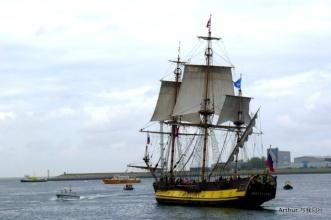fanchuan: (143, 13, 279, 207)
otherboat: (101, 172, 142, 184), (54, 184, 81, 202), (20, 170, 48, 183)
